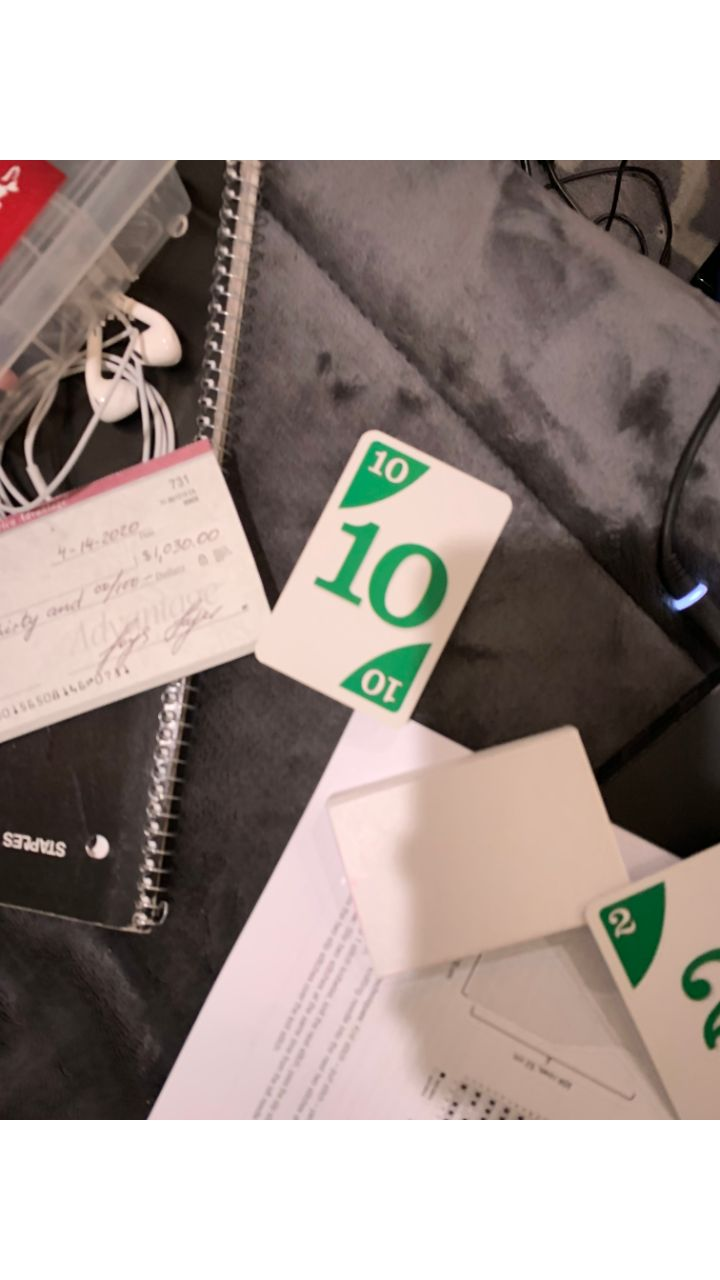ten: (252, 430, 510, 727)
